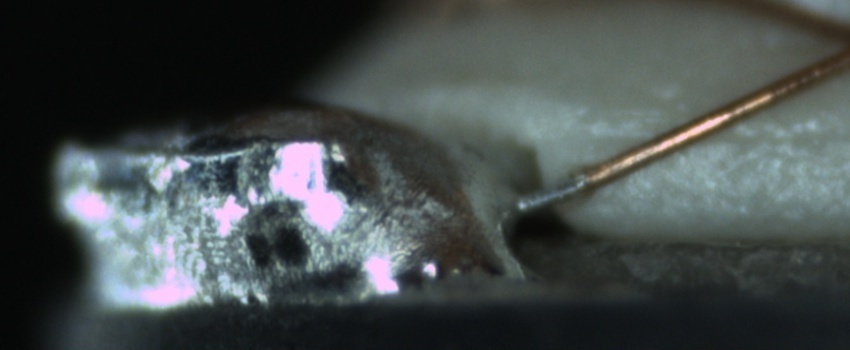CL: (807, 6, 850, 83)
DL: (608, 106, 850, 170)
TS: (517, 172, 587, 213)
